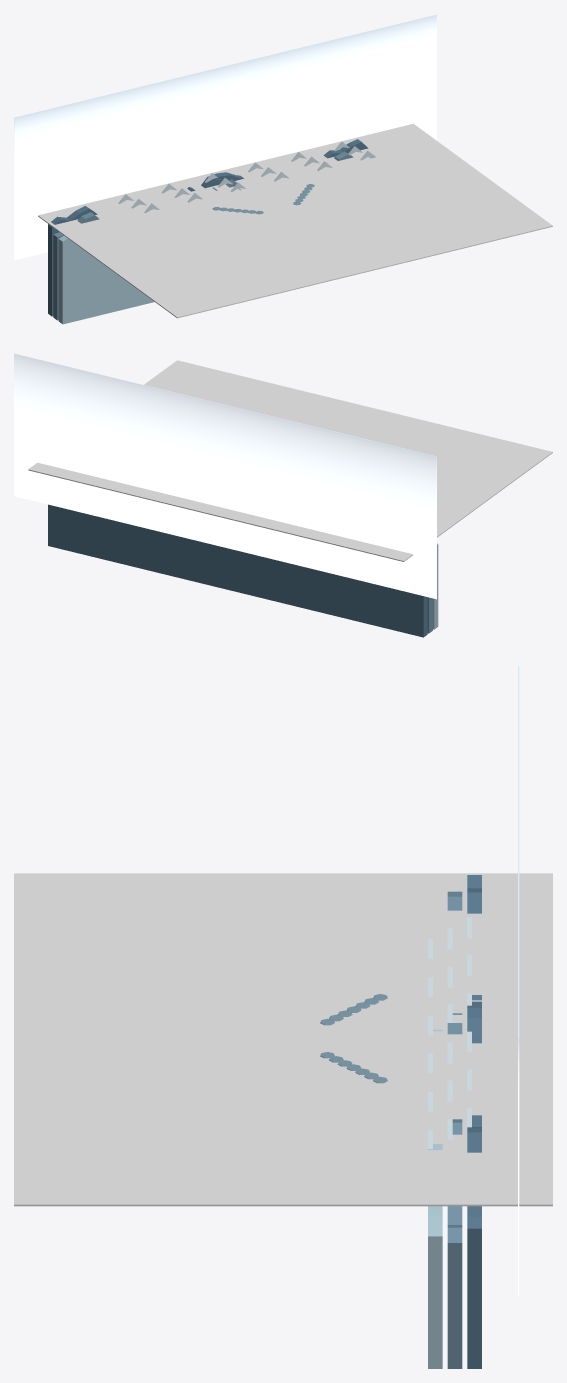
The model's file is lanternoutpost.glb.
3 views of the same model, one above another, from view 1: azimuth 30°, elevation 25°; view 2: azimuth 150°, elevation 25°; view 3: azimuth 270°, elevation 25° (orthographic). The views are drawn at different scales.
Visible parts, largest first — view 1: Ground contact / transparent shadow receiver.065, Sky gradient / editable material.065, World / terrain and architecture.028; view 2: Sky gradient / editable material.065, Ground contact / transparent shadow receiver.065, World / terrain and architecture.028; view 3: Ground contact / transparent shadow receiver.065, World / terrain and architecture.028, Sky gradient / editable material.065, Foreground / edge details.026.
Part boxes in pixels (x1=…): Ground contact / transparent shadow receiver.065: x1=38, y1=123, x2=552, y2=318; Sky gradient / editable material.065: x1=14, y1=14, x2=436, y2=260; World / terrain and architecture.028: x1=48, y1=139, x2=375, y2=324; Sky gradient / editable material.065: x1=14, y1=353, x2=436, y2=599; Ground contact / transparent shadow receiver.065: x1=28, y1=360, x2=552, y2=561; World / terrain and architecture.028: x1=48, y1=504, x2=438, y2=637; Ground contact / transparent shadow receiver.065: x1=14, y1=873, x2=552, y2=1206; World / terrain and architecture.028: x1=428, y1=875, x2=481, y2=1368; Sky gradient / editable material.065: x1=518, y1=666, x2=519, y2=1296; Foreground / edge details.026: x1=320, y1=994, x2=387, y2=1083.
Bounding box in the file's own units: 180 × 79 × 110.
